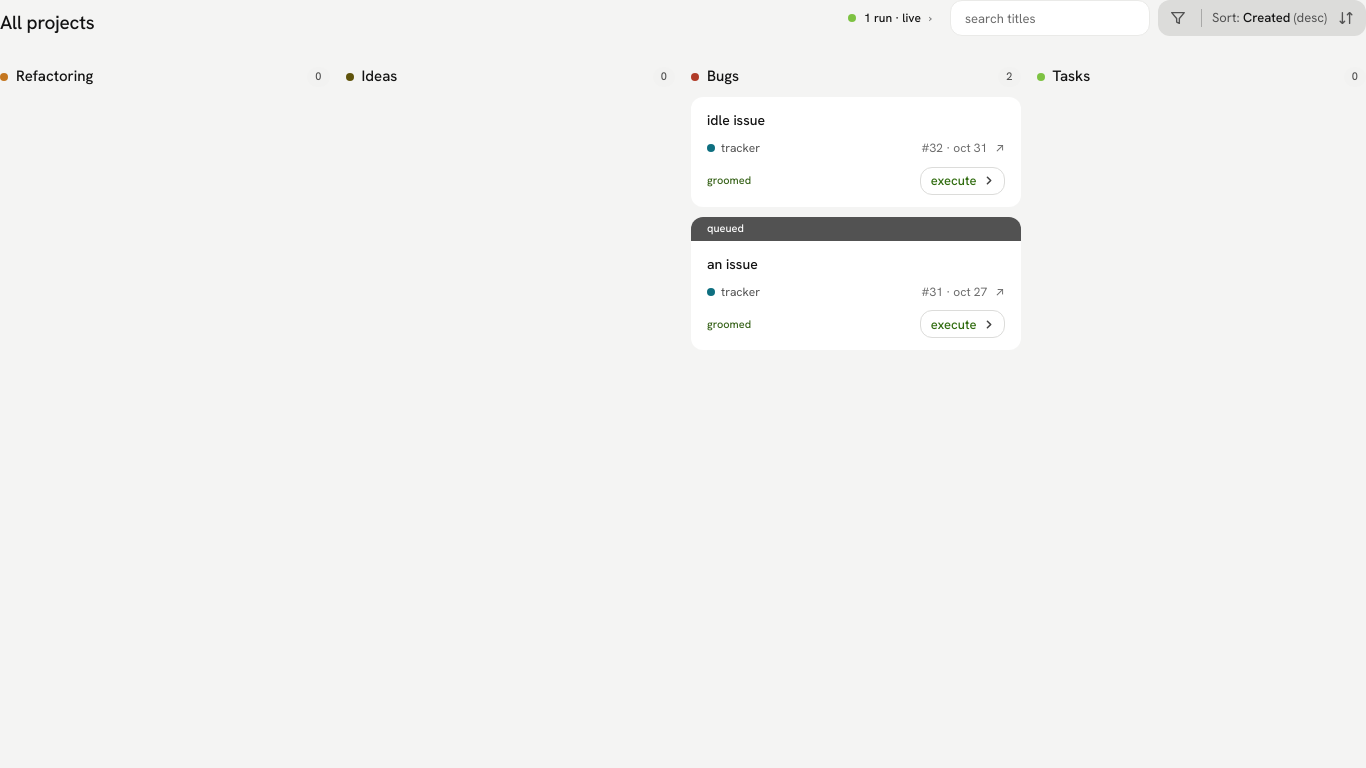
Test: the orchestrator:queued strip › is not live work: a queued card neither floats above an idle one nor counts as In progress
Expected: the text "Bugs" is shown, [707,66,739,87]
Expected: the element with class "board-card-queued" is shown, [691,217,1020,241]
Click the button named "Filters" at (1178, 18), box [1161,3,1195,33]
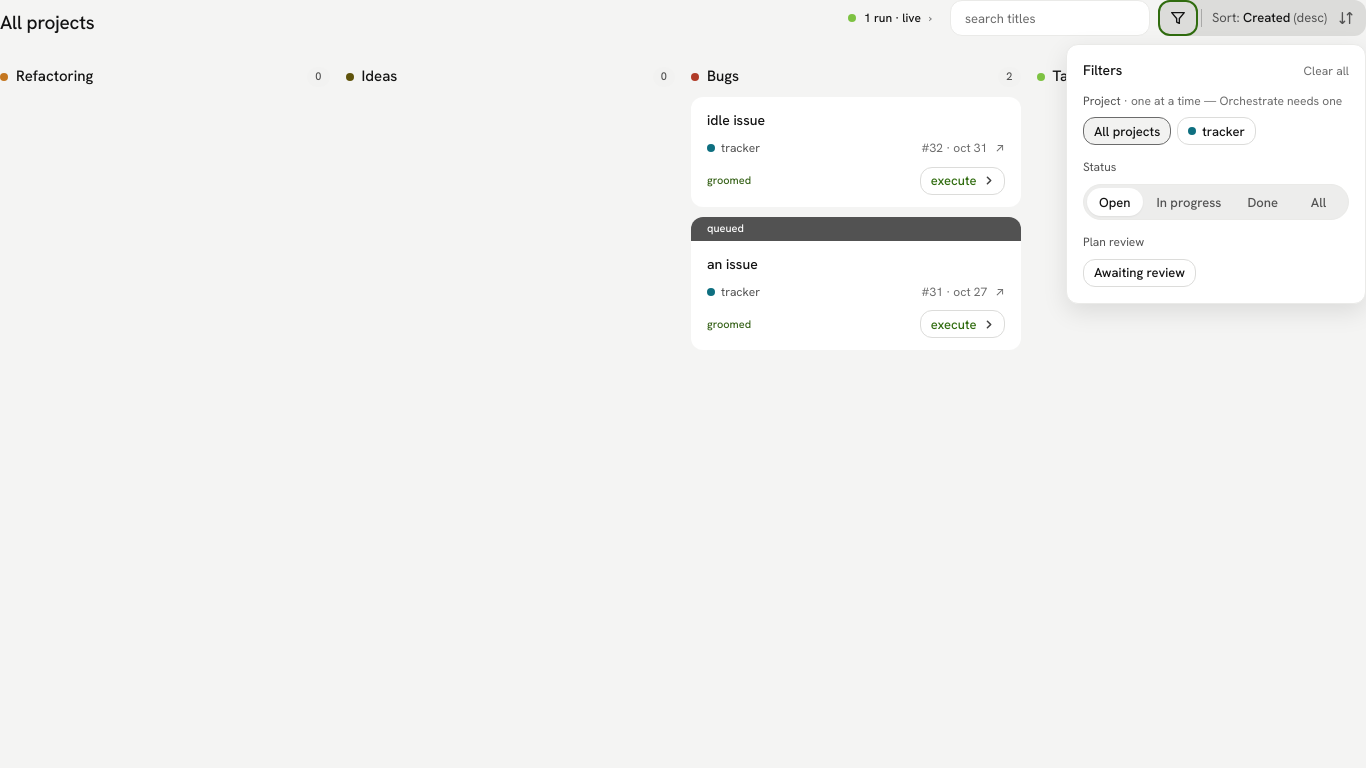
Click the button "In progress" at (1189, 202), box [1144,188,1233,216]
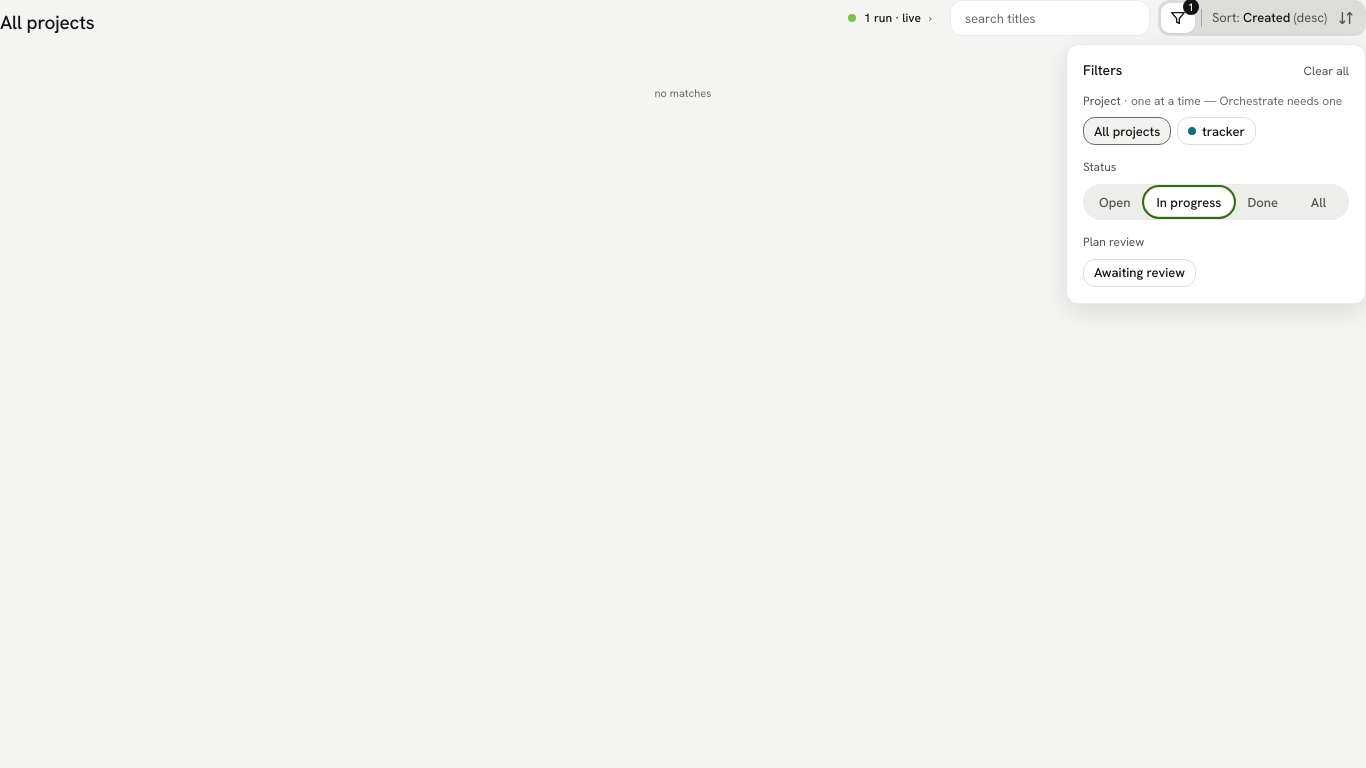
Expected: the button "an issue" is gone
